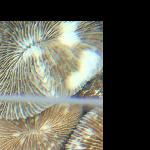dead: (2, 24, 101, 147)
